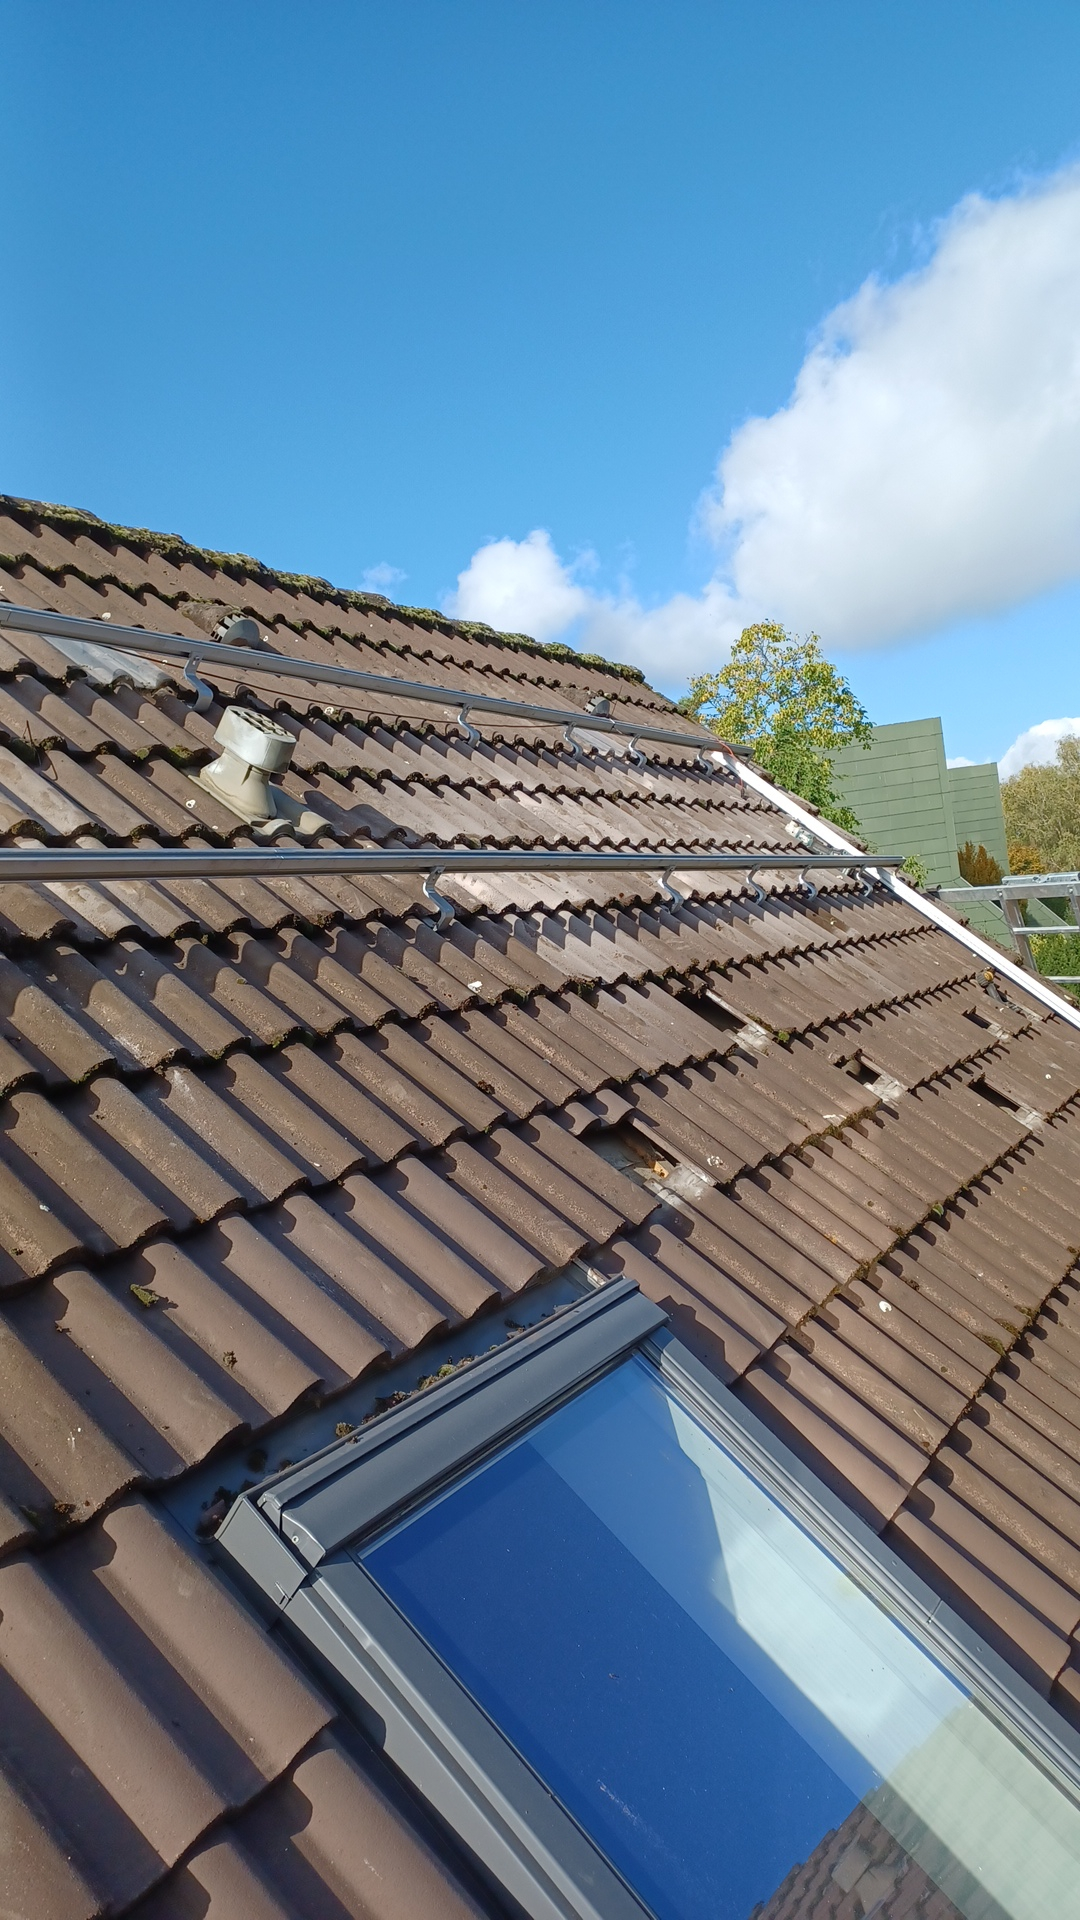hook: (422, 866, 455, 930), (183, 650, 214, 713), (657, 865, 684, 913), (458, 703, 480, 746), (563, 721, 584, 760), (746, 864, 765, 905), (799, 864, 818, 901), (628, 733, 647, 767), (856, 862, 873, 897), (696, 744, 713, 777)
